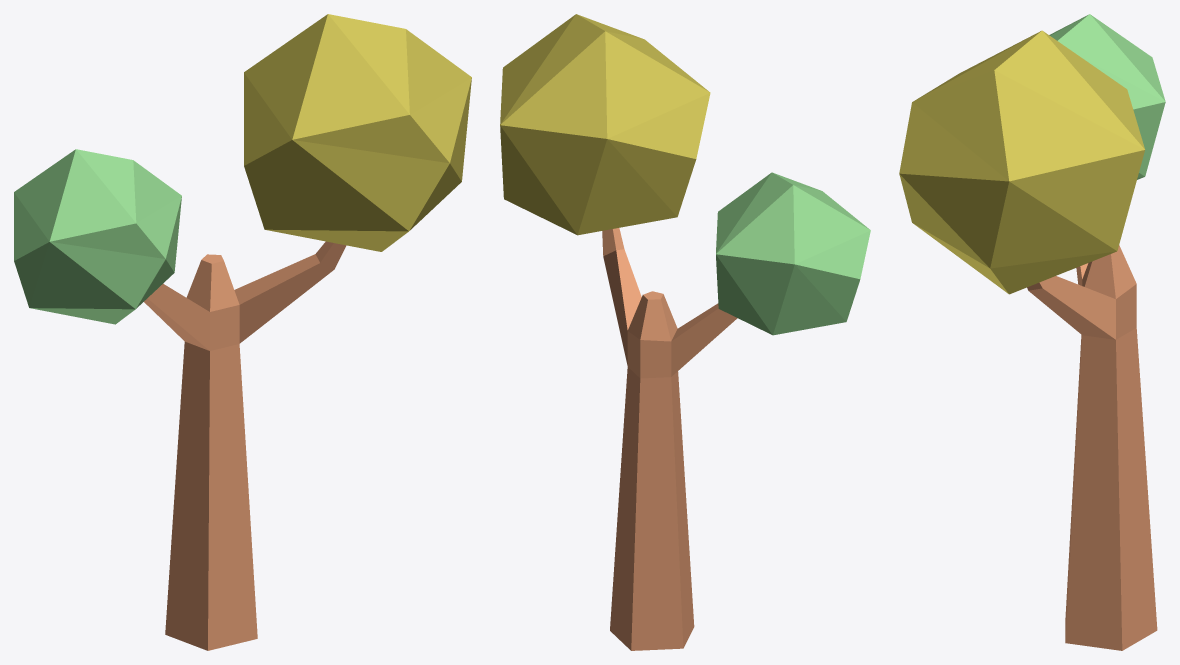
The model's file is DubleTree.fbx.
3 views of the same model, side by side, from view 1: azimuth 30°, elevation 25°; view 2: azimuth 150°, elevation 25°; view 3: azimuth 270°, elevation 25° (orthographic). The views are drawn at different scales.
Parts seen in each view (by area): view 1: Leaf2, Trunk, Leaf1; view 2: Leaf2, Trunk, Leaf1; view 3: Leaf2, Trunk, Leaf1.
Boxes of the visible parts, left/top/right/bottom form: Leaf2: left=244, top=14, right=471, bottom=251; Trunk: left=144, top=241, right=346, bottom=650; Leaf1: left=14, top=149, right=181, bottom=324; Leaf2: left=500, top=14, right=710, bottom=235; Trunk: left=602, top=228, right=737, bottom=650; Leaf1: left=716, top=172, right=870, bottom=335; Leaf2: left=899, top=30, right=1144, bottom=294; Trunk: left=1027, top=245, right=1157, bottom=650; Leaf1: left=1049, top=14, right=1165, bottom=179.
Bounding box in the file's own units: 366 × 509 × 191.
